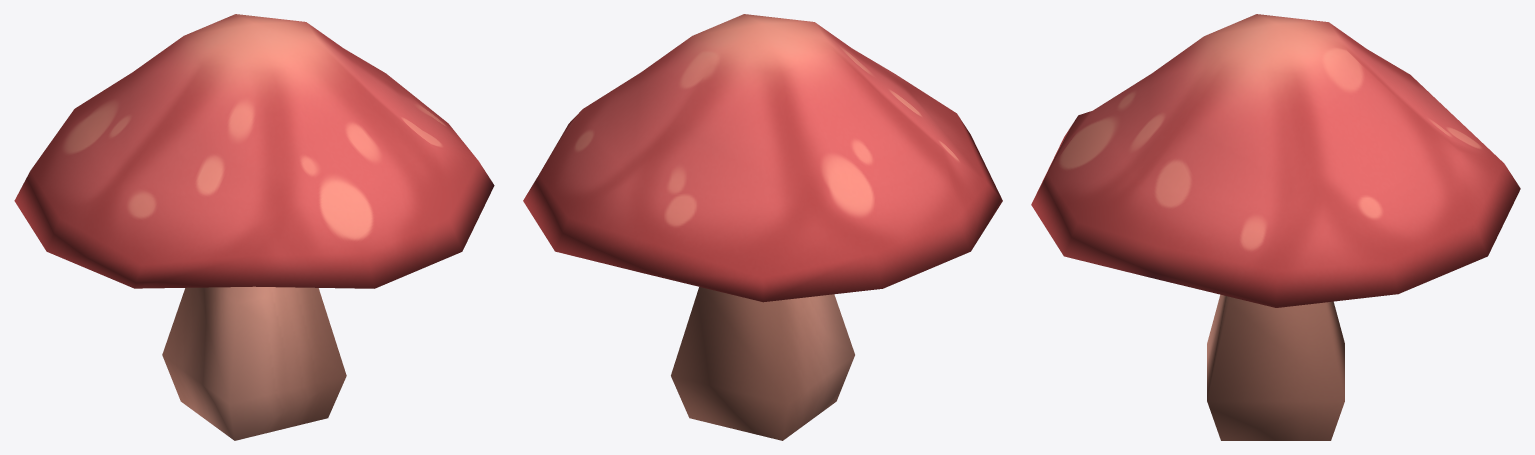
The model's file is Snake_mushroom_01.fbx.
The picture shows the model from 3 angles, left to right: view 1: azimuth 30°, elevation 25°; view 2: azimuth 150°, elevation 25°; view 3: azimuth 270°, elevation 25°; orthographic projection.
Parts seen in each view (by area): view 1: Snake_mushroom_01; view 2: Snake_mushroom_01; view 3: Snake_mushroom_01.
Part boxes in pixels (box(x1,y1,x2,y2)): Snake_mushroom_01: box(14, 14, 494, 440); Snake_mushroom_01: box(523, 14, 1002, 440); Snake_mushroom_01: box(1031, 14, 1520, 440).
Bounding box in the file's own units: 91.94 × 81.53 × 91.94.
